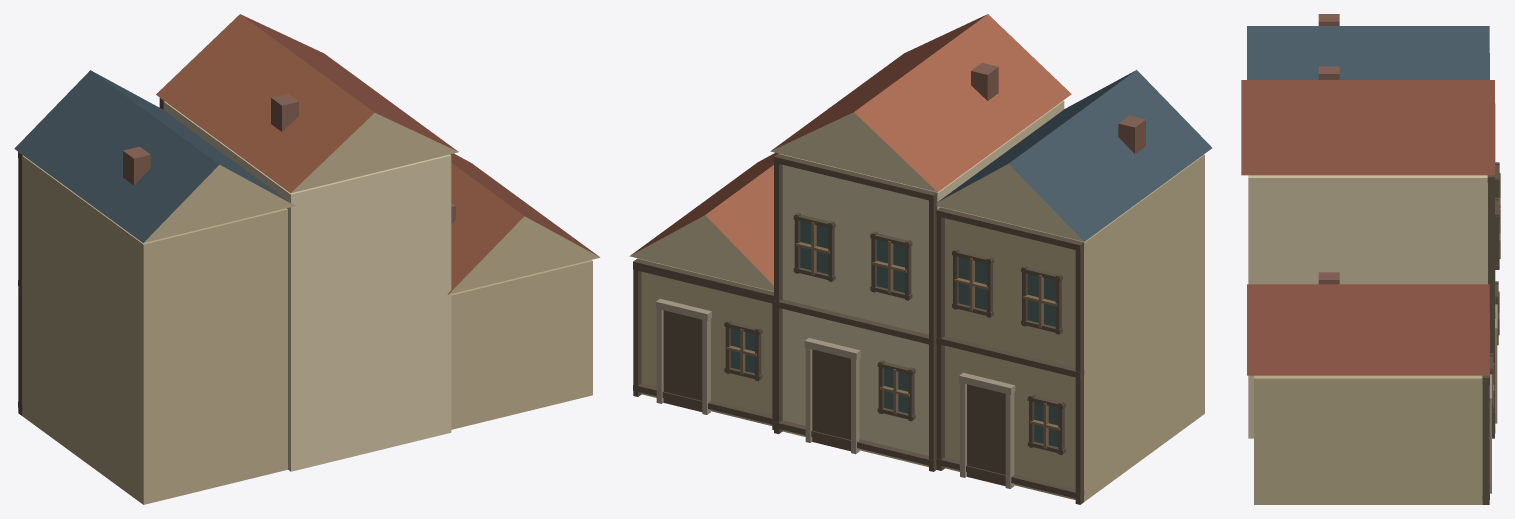
The model's file is WalkTown_RowC.fbx.
3 renders of one model, left to right at view 1: azimuth 30°, elevation 25°; view 2: azimuth 150°, elevation 25°; view 3: azimuth 270°, elevation 25°, orthographic. The views are drawn at different scales.
Visible parts, largest first — view 1: WalkTown_RowC; view 2: WalkTown_RowC; view 3: WalkTown_RowC.
Boxes of the visible parts, left/top/right/bottom form: WalkTown_RowC: left=14, top=14, right=600, bottom=504; WalkTown_RowC: left=629, top=14, right=1212, bottom=504; WalkTown_RowC: left=1241, top=14, right=1500, bottom=504.
Size of the model in its own units: 11.4 by 8.15 by 5.95.
